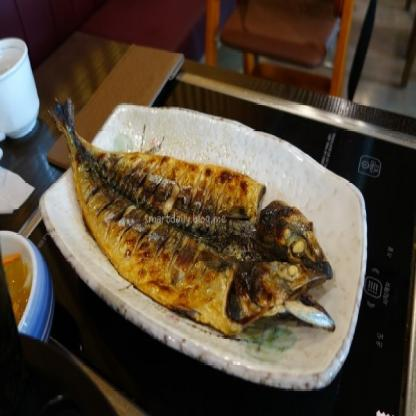Peixe: (33, 104, 350, 348)
